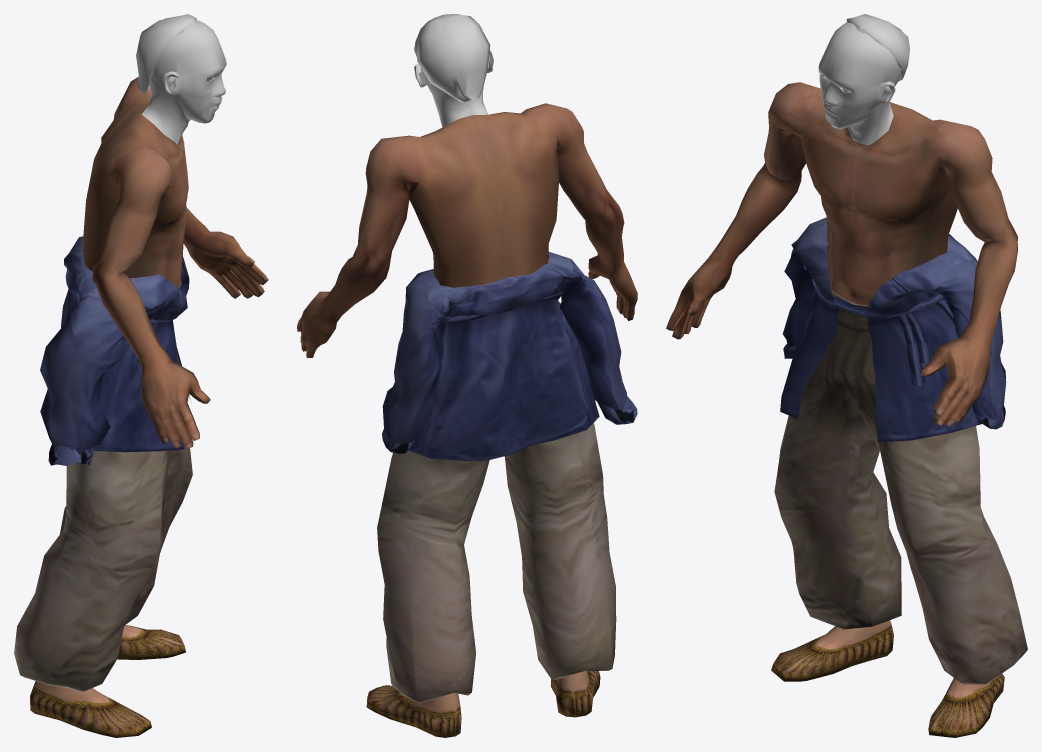
The model's file is man02.FBX.
3 views of the same model, side by side, from view 1: azimuth 30°, elevation 25°; view 2: azimuth 150°, elevation 25°; view 3: azimuth 270°, elevation 25° (orthographic). The views are drawn at different scales.
Visible parts, largest first — view 1: 背米男02; view 2: 背米男02; view 3: 背米男02.
Part boxes in pixels (x1=…): 背米男02: x1=14, y1=14, x2=268, y2=737; 背米男02: x1=297, y1=14, x2=637, y2=737; 背米男02: x1=666, y1=14, x2=1027, y2=737.
Bounding box in the file's own units: 728 × 1636 × 768.
